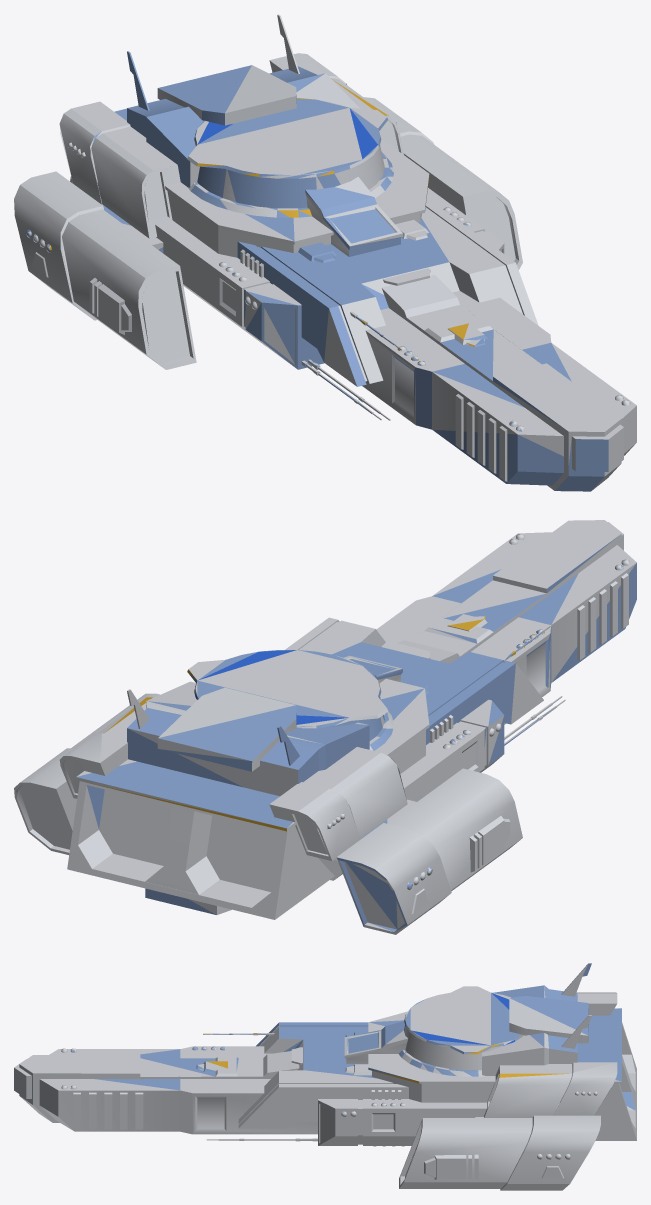
The model's file is escortcarrier.glb.
3 renders of one model, top to bottom at view 1: azimuth 30°, elevation 25°; view 2: azimuth 150°, elevation 25°; view 3: azimuth 270°, elevation 25°, orthographic. The views are drawn at different scales.
Visible parts, largest first — view 1: Insurgent; view 2: Insurgent; view 3: Insurgent.
Part boxes in pixels (left/top/right/bottom): Insurgent: left=14, top=14, right=636, bottom=491; Insurgent: left=14, top=520, right=636, bottom=934; Insurgent: left=14, top=963, right=636, bottom=1190.
Size of the model in its own units: 5.08 by 2.62 by 10.
